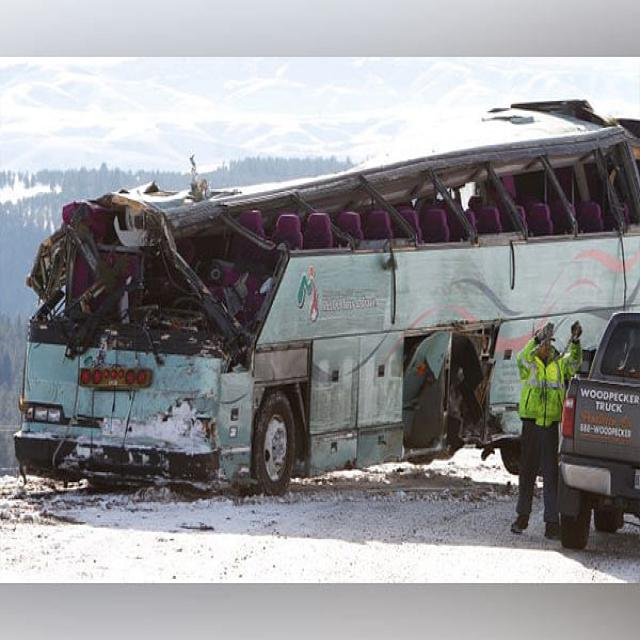accident: (15, 105, 640, 492)
